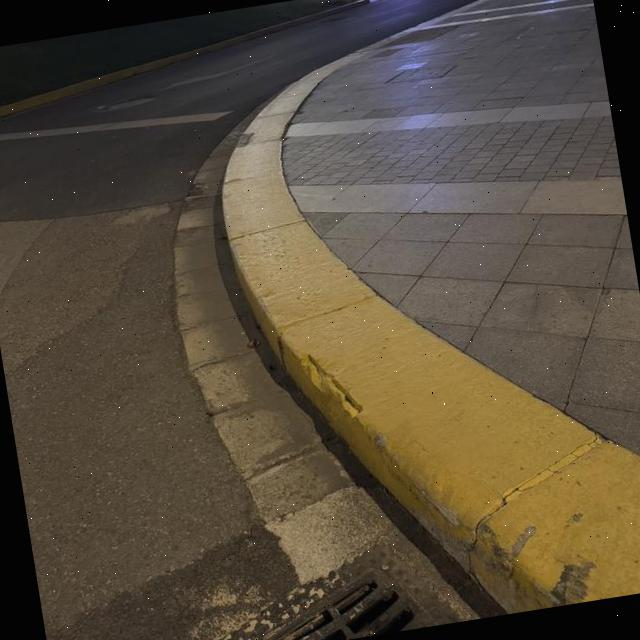curb: (222, 53, 640, 613)
